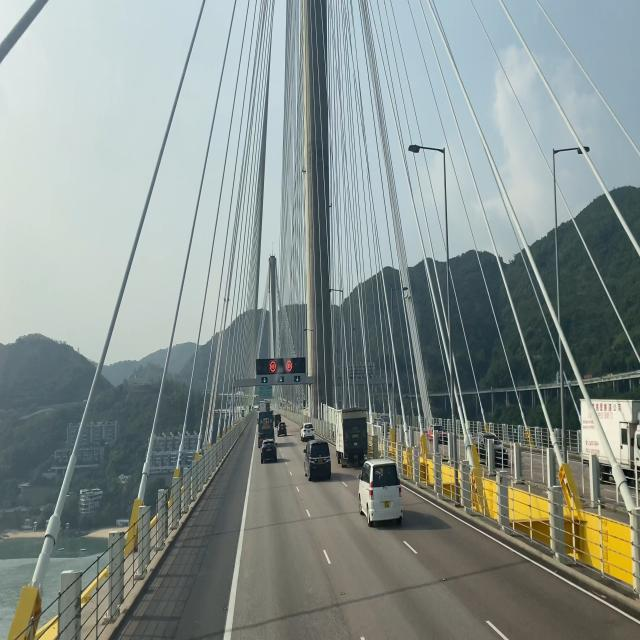Car: (358, 462, 405, 530), (336, 407, 372, 469), (302, 436, 333, 486), (260, 438, 278, 463), (300, 424, 317, 444)
